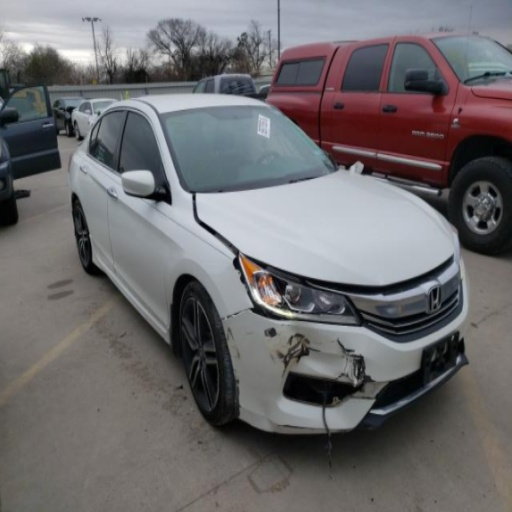rust: (277, 333, 320, 378), (227, 326, 242, 360), (235, 371, 241, 421), (262, 327, 279, 339), (268, 350, 276, 364)
